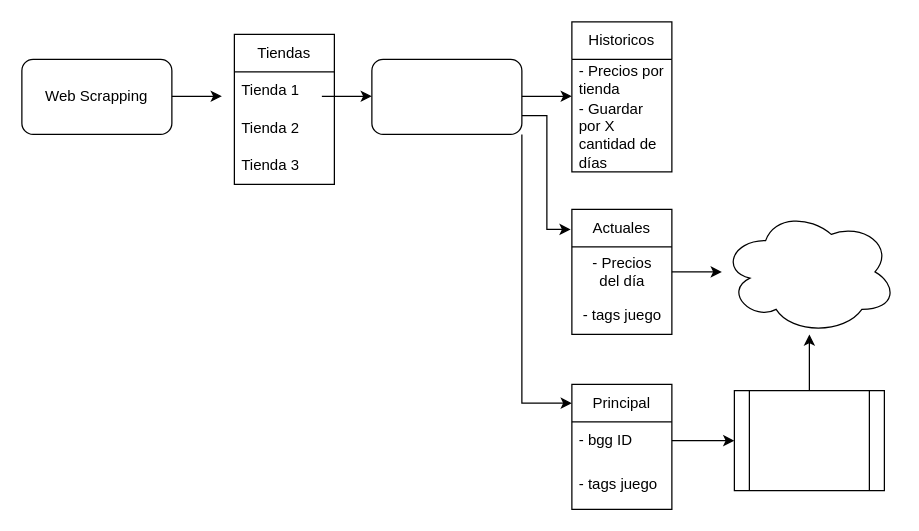
Some shapes in this 919 by 531 pixel diagram are drawn without their labels. Here are the shapes that lost their labels. From the top down, the centre of each, then its label:
At [446,96]: "Bases de datos".
At [809,271]: "Web".
At [808,440]: "Machine Learning - Recomendador de juego".
